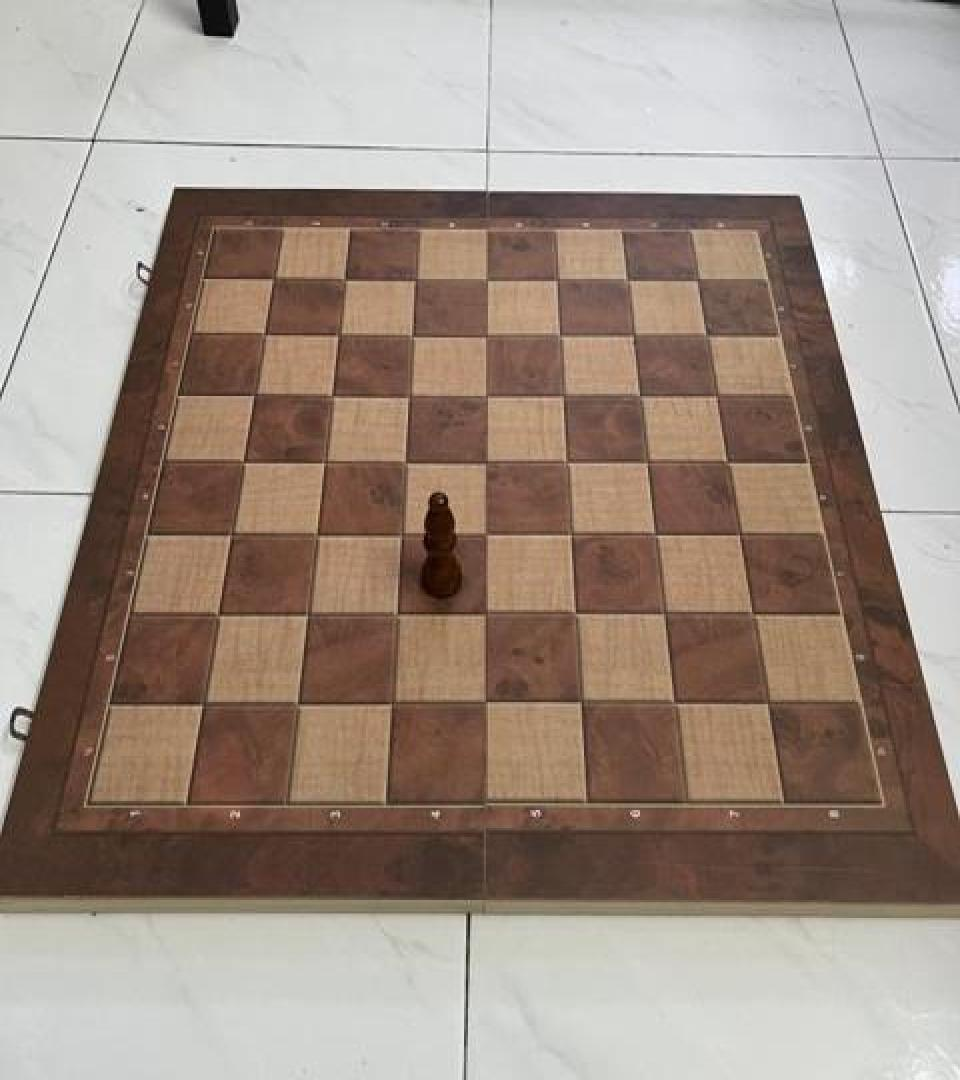xcorner: (683, 262, 715, 298), (612, 261, 644, 297), (541, 261, 573, 297), (470, 260, 502, 296), (399, 260, 431, 296), (328, 259, 360, 295), (257, 259, 289, 295), (692, 317, 724, 353), (618, 317, 650, 353), (544, 316, 576, 352), (470, 316, 502, 352), (396, 316, 428, 352), (322, 315, 354, 351), (248, 315, 280, 351), (701, 378, 733, 414), (624, 378, 656, 414), (547, 378, 579, 414), (470, 377, 502, 413), (393, 377, 425, 413), (316, 376, 348, 412), (238, 376, 270, 412), (712, 444, 744, 480), (631, 444, 663, 480), (551, 444, 583, 480), (470, 443, 502, 479), (389, 443, 421, 479), (308, 443, 340, 479), (227, 442, 259, 478), (723, 518, 755, 554), (639, 518, 671, 554), (555, 516, 587, 552), (470, 516, 502, 552), (385, 516, 417, 552), (300, 516, 332, 552), (215, 515, 247, 551), (736, 598, 768, 634), (647, 598, 679, 634), (559, 596, 591, 632), (470, 596, 502, 632), (381, 596, 413, 632), (292, 596, 324, 632), (202, 596, 234, 632), (750, 685, 782, 721), (657, 685, 689, 721), (563, 685, 595, 721), (470, 685, 502, 721), (376, 685, 408, 721), (282, 685, 314, 721), (188, 685, 220, 721)
